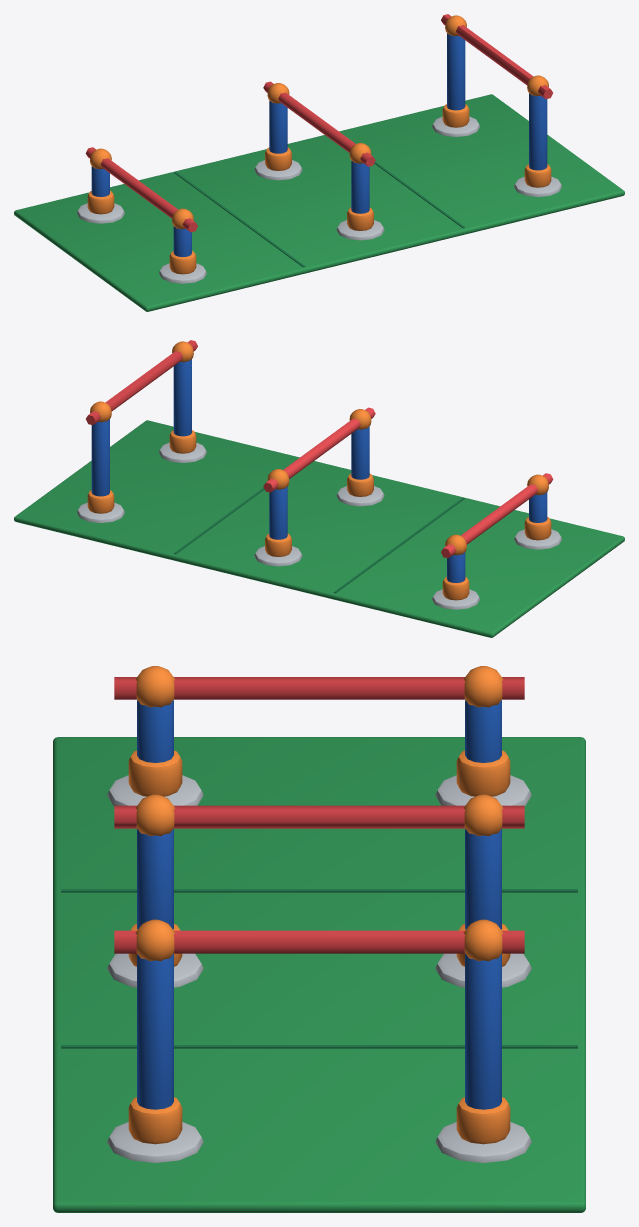
Rendered from academia_flexao.glb.
The picture shows the model from 3 angles, top to bottom: view 1: azimuth 30°, elevation 25°; view 2: azimuth 150°, elevation 25°; view 3: azimuth 270°, elevation 25°; orthographic projection. The views are drawn at different scales.
Parts seen in each view (by area): view 1: academia_flexao; view 2: academia_flexao; view 3: academia_flexao.
Part boxes in pixels (x1,y1,x2,y2): academia_flexao: (14, 14, 624, 311); academia_flexao: (14, 340, 624, 637); academia_flexao: (53, 666, 585, 1212).
Bounding box in the file's own units: 2.7 × 0.625 × 1.3.
1 material, 1 textured.
